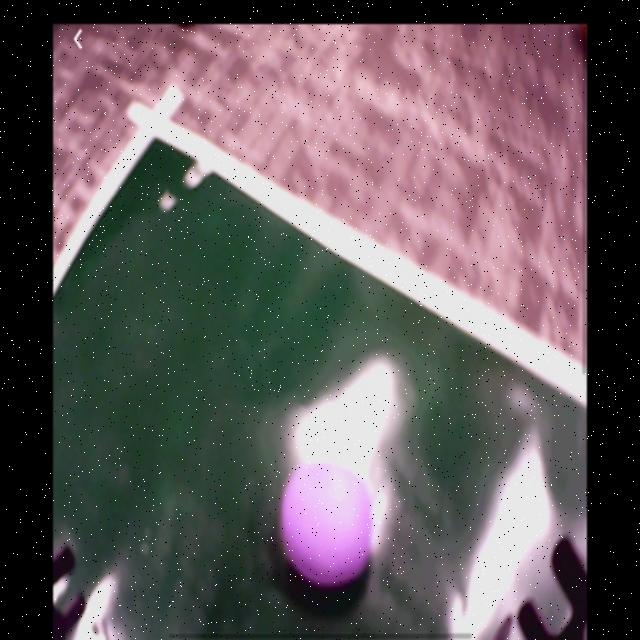ball: (278, 462, 378, 591)
